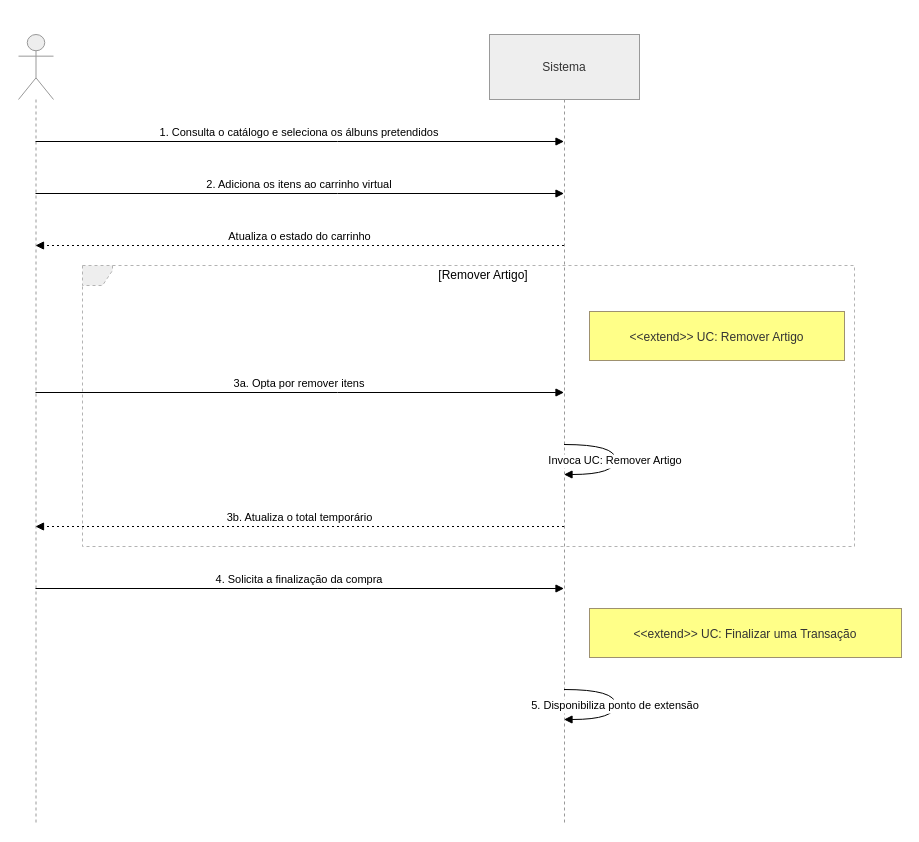
Some shapes in this 919 by 842 pixel diagram are drawn without their labels. The shapes that lost their labels are listed below. From the top down, each one's box as (x1, y1, x2, y2) in pixels, then its label:
(82, 264, 854, 546): opt
(18, 34, 54, 824): Cliente
